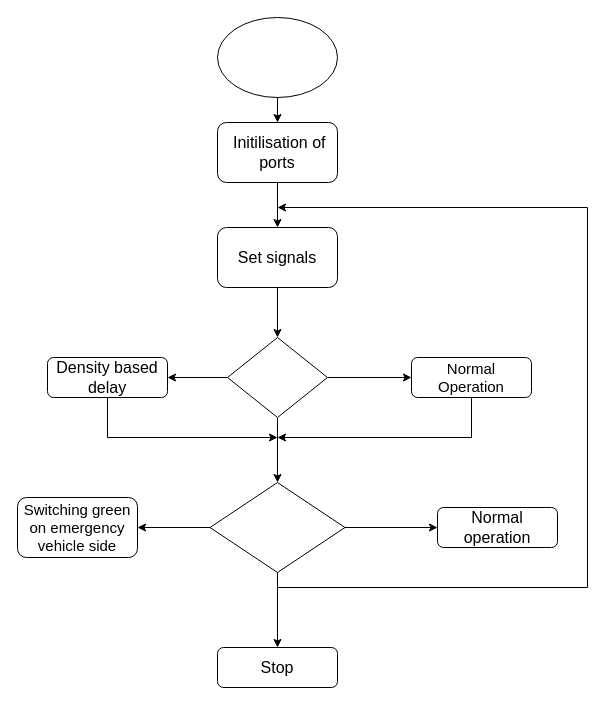
This 613x705 diagram has some shape labels left out. The box of each missing label's shape, as (x1, y1, x2, y2) in pixels:
Check Density: (226, 336, 328, 418)
Check for emergency vehicle: (209, 482, 345, 572)
Start: (216, 16, 338, 98)
